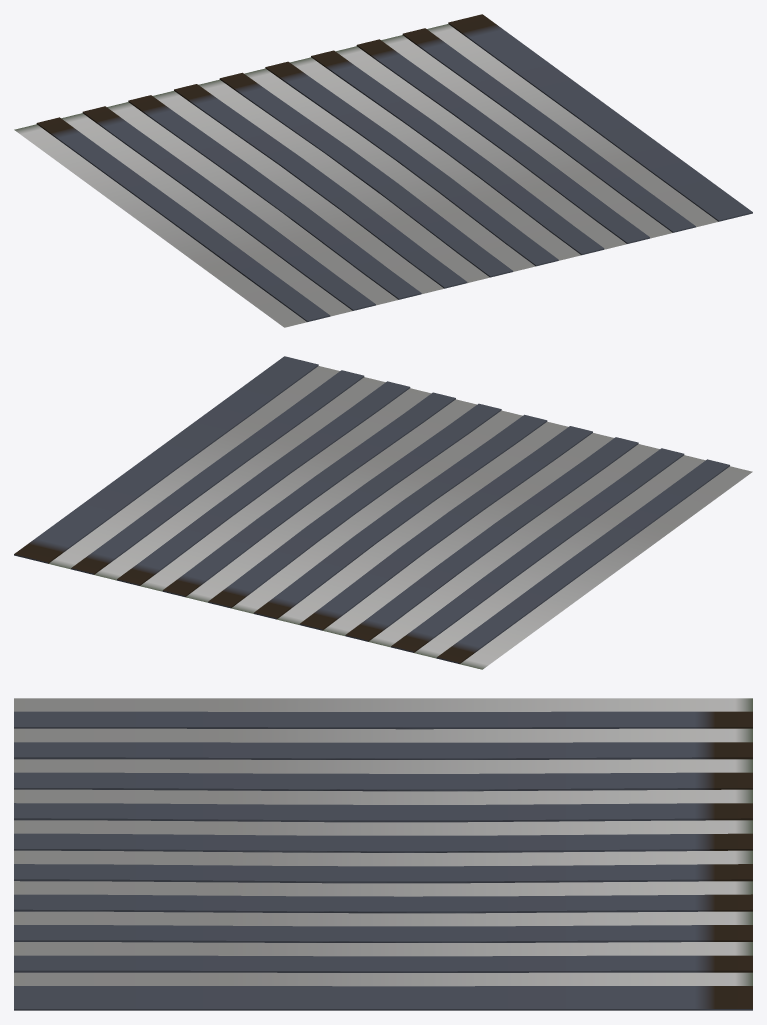
The model's file is Terrain_11.fbx.
3 renders of one model, top to bottom at view 1: azimuth 30°, elevation 25°; view 2: azimuth 150°, elevation 25°; view 3: azimuth 270°, elevation 25°, orthographic. The views are drawn at different scales.
Parts seen in each view (by area): view 1: Terrain_11; view 2: Terrain_11; view 3: Terrain_11.
Part boxes in pixels (<box>): Terrain_11: <box>14,14,752,327</box>; Terrain_11: <box>14,356,752,669</box>; Terrain_11: <box>14,698,752,1010</box>.
Size of the model in its own units: 128 by 0.3468 by 128.
